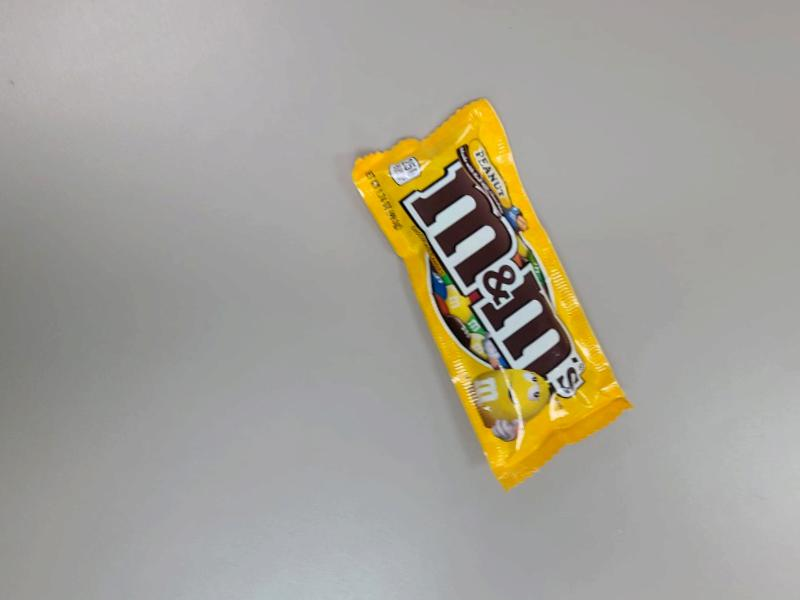m&m: (333, 71, 610, 497)
